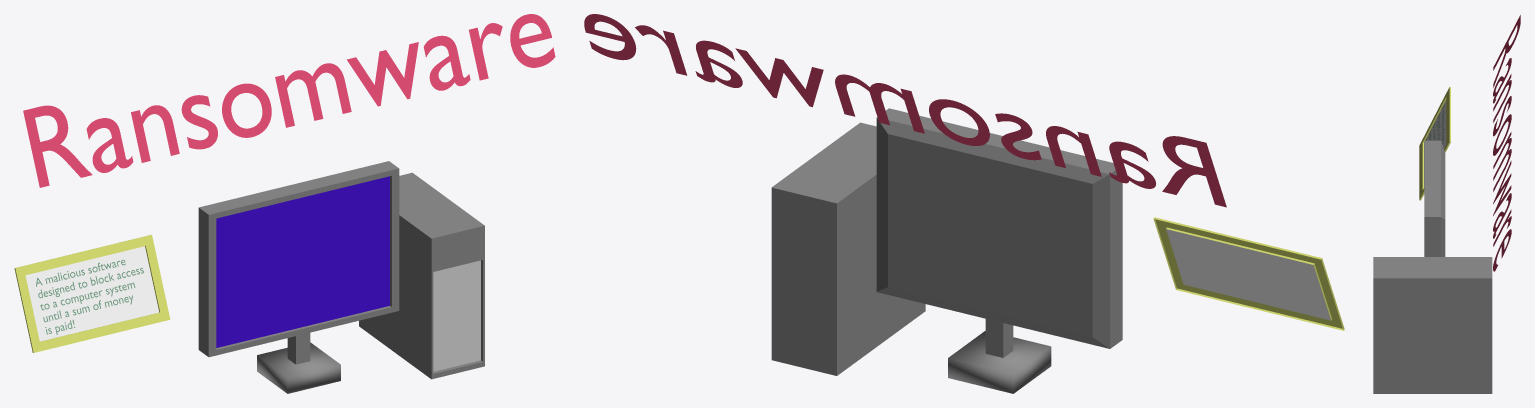
File: ransomwarev2___1630904623923.glb
3 views of the same model, side by side, from view 1: azimuth 30°, elevation 25°; view 2: azimuth 150°, elevation 25°; view 3: azimuth 270°, elevation 25° (orthographic). The views are drawn at different scales.
Parts seen in each view (by area): view 1: Cube.002, PC, Text, Plane.001, Cube, Text.002, Cube.001; view 2: Cube.002, PC, Text, Plane.001, Cube, Cube.001; view 3: PC, Cube.002, Text, Plane.001, Text.002.
Part boxes in pixels (box(x1,y1,x2,y2)): Cube.002: box(198, 161, 399, 357); PC: box(359, 172, 484, 379); Text: box(23, 14, 555, 187); Plane.001: box(14, 234, 170, 352); Cube: box(257, 342, 340, 393); Text.002: box(36, 259, 143, 334); Cube.001: box(287, 332, 310, 364); Cube.002: box(876, 108, 1122, 348); PC: box(771, 122, 925, 375); Text: box(584, 14, 1226, 207); Plane.001: box(1153, 217, 1344, 330); Cube: box(948, 331, 1051, 393); Cube.001: box(985, 319, 1013, 357); PC: box(1373, 257, 1492, 393); Cube.002: box(1424, 140, 1445, 256); Text: box(1493, 15, 1520, 271); Plane.001: box(1419, 87, 1450, 200); Text.002: box(1426, 104, 1444, 143).
Size of the model in its own units: 1.81 by 0.8541 by 0.4952.
